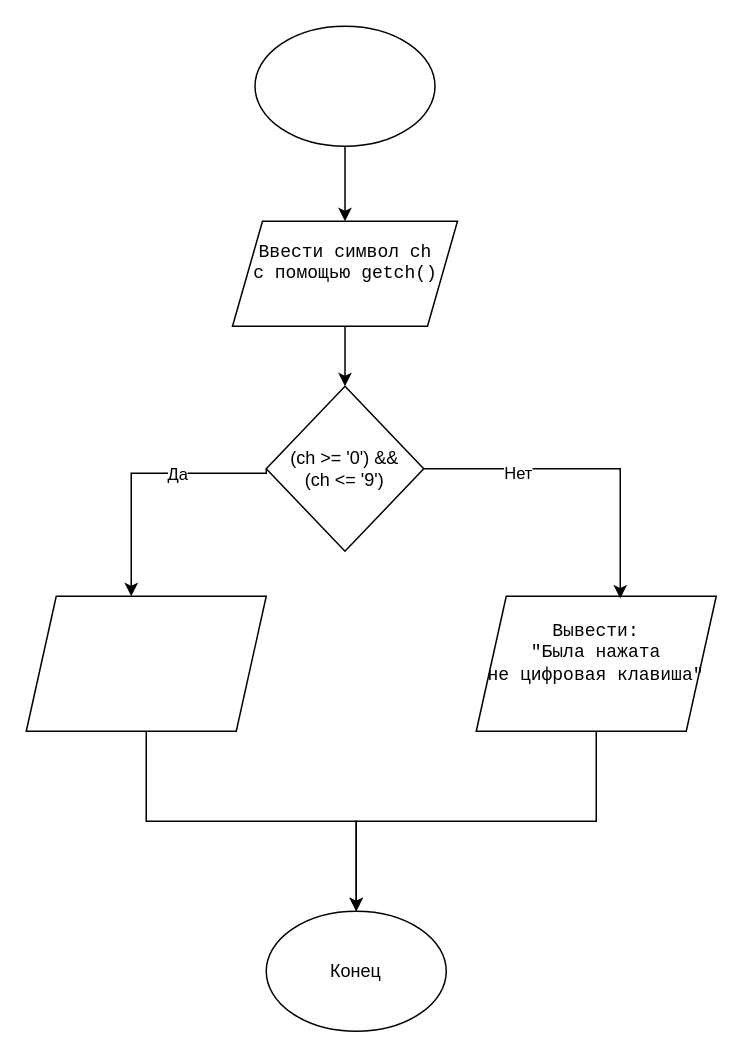
Some shapes in this 743 by 1058 pixel diagram are drawn without their labels. The centre of each missing label's shape, as x and y in pixels:
Вывести: "Была нажата цифровая клавиша: ch": (x=145, y=663)
Начало: (x=344, y=85)
